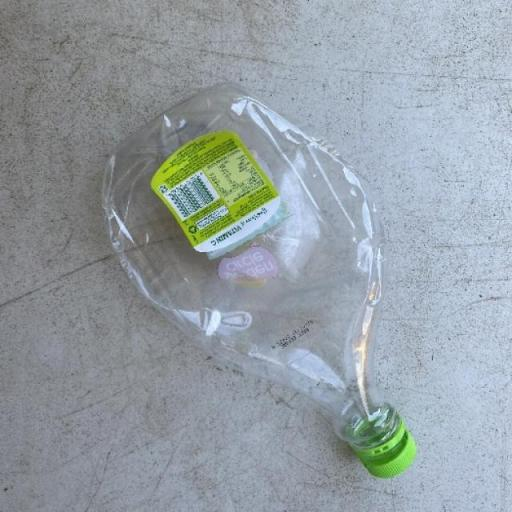plastic: (100, 80, 418, 478)
